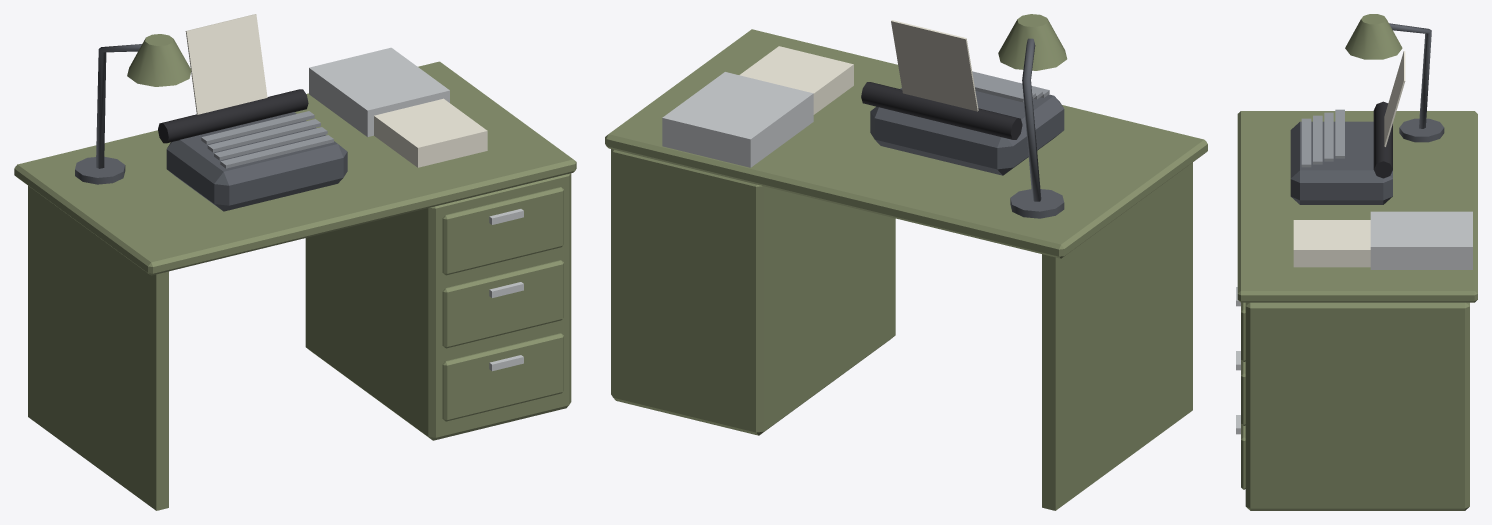
The model's file is typewriter_desk.glb.
The picture shows the model from 3 angles, left to right: view 1: azimuth 30°, elevation 25°; view 2: azimuth 150°, elevation 25°; view 3: azimuth 270°, elevation 25°; orthographic projection. The views are drawn at different scales.
Parts seen in each view (by area): view 1: typewriter_desk; view 2: typewriter_desk; view 3: typewriter_desk.
Boxes of the visible parts, left/top/right/bottom form: typewriter_desk: left=14, top=14, right=576, bottom=510; typewriter_desk: left=605, top=14, right=1207, bottom=510; typewriter_desk: left=1236, top=14, right=1477, bottom=510.
Bounding box in the file's own units: 1.35 × 1.2 × 0.755.
